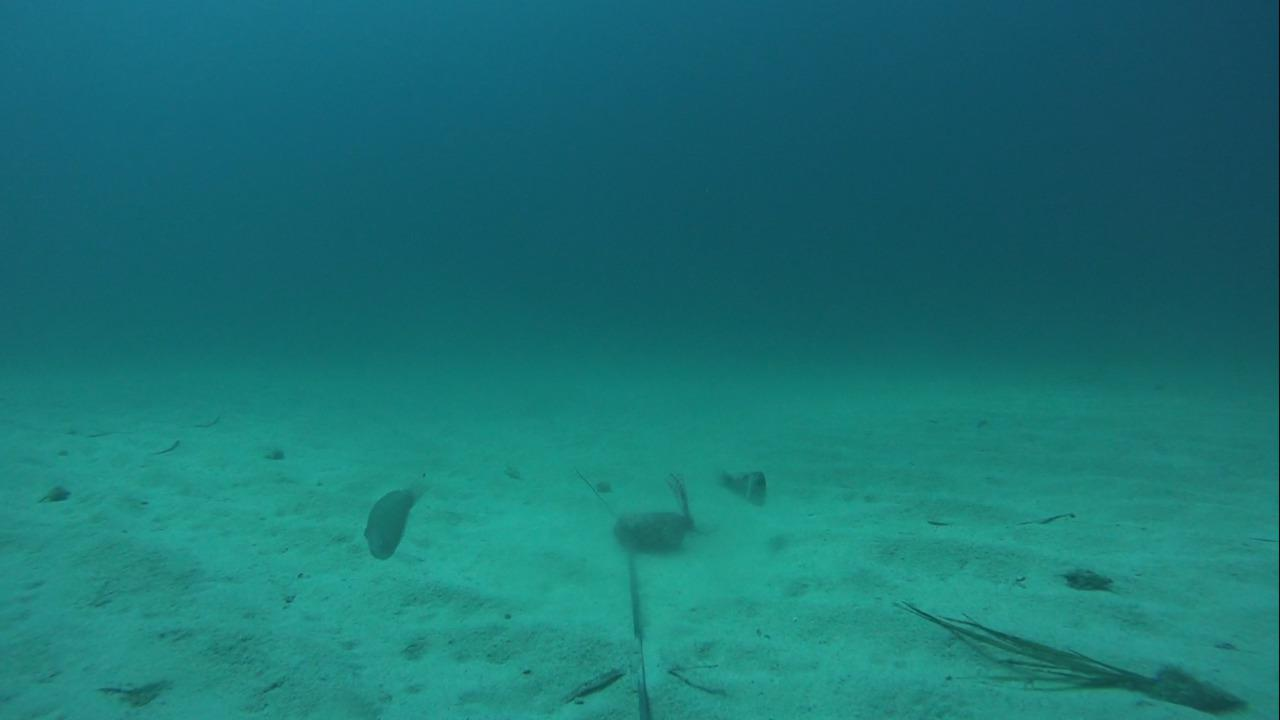raor: (358, 473, 432, 567), (707, 460, 773, 507)
